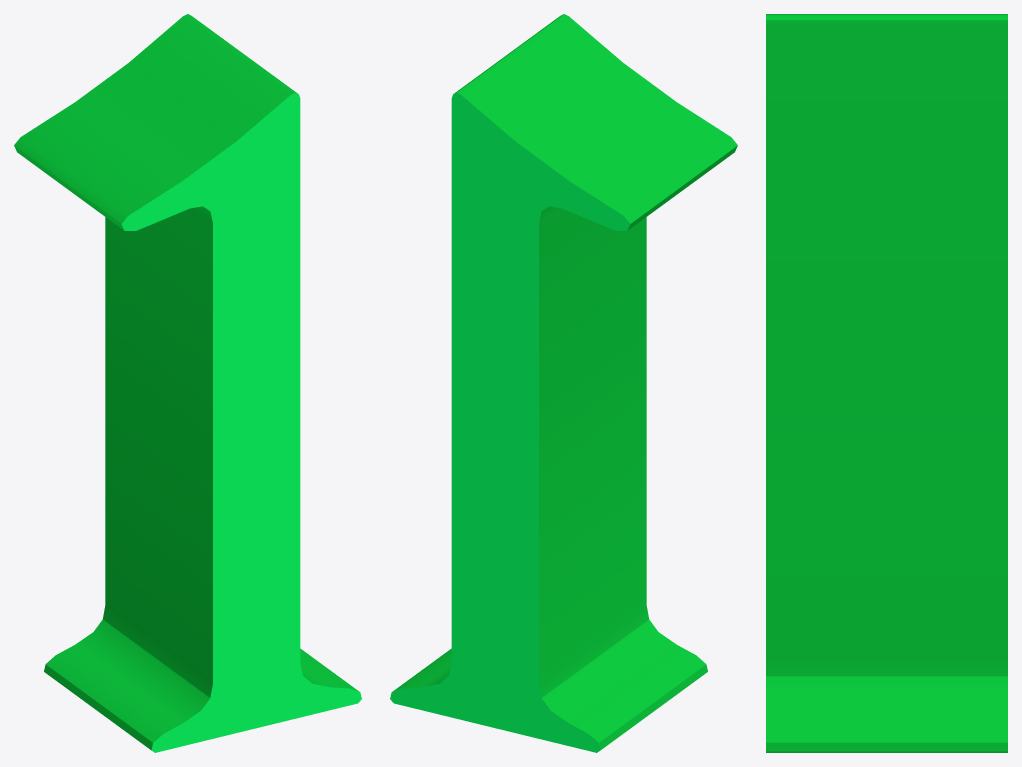
3 renders of one model, left to right at view 1: azimuth 30°, elevation 25°; view 2: azimuth 150°, elevation 25°; view 3: azimuth 270°, elevation 25°, orthographic. The views are drawn at different scales.
Visible parts, largest first — view 1: 1_Soul_Green; view 2: 1_Soul_Green; view 3: 1_Soul_Green.
Part boxes in pixels (left/top/right/bottom): 1_Soul_Green: left=14, top=14, right=361, bottom=752; 1_Soul_Green: left=390, top=14, right=737, bottom=752; 1_Soul_Green: left=766, top=14, right=1007, bottom=752.
Size of what is drawn, in the model's own units: 0.058 by 0.1445 by 0.045.
2 materials, 2 textured.
